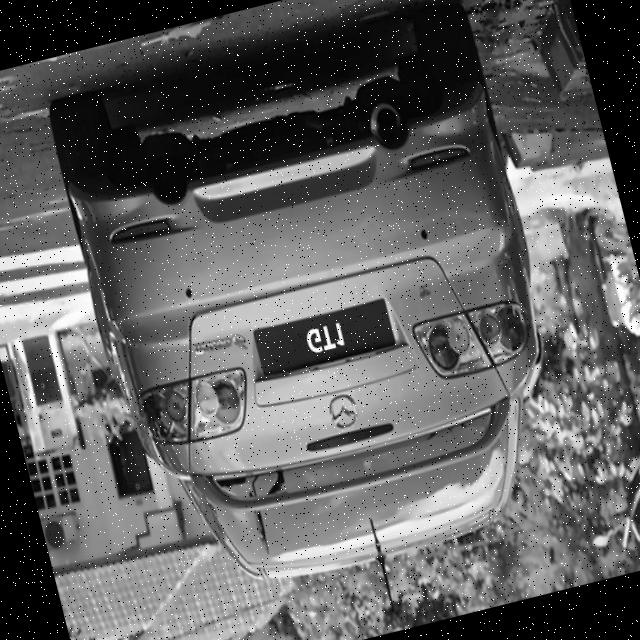License_Plate: (249, 295, 399, 387)
car: (31, 1, 595, 620)
